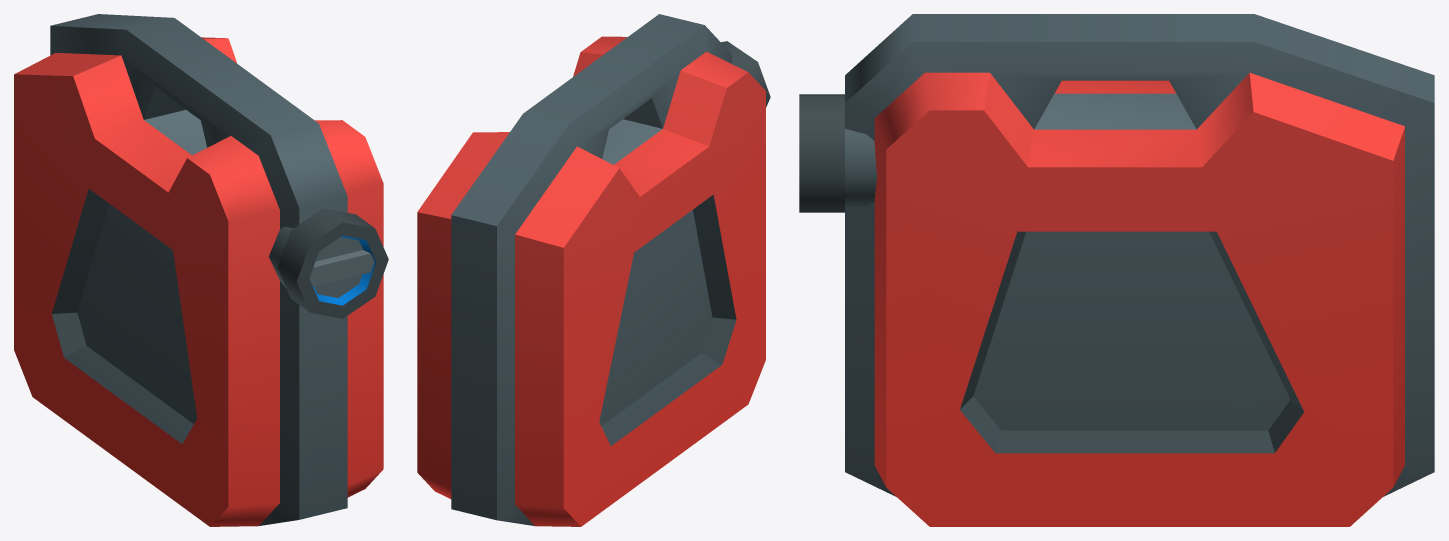
Rendered from Gas_Can_001.fbx.
The picture shows the model from 3 angles, left to right: view 1: azimuth 30°, elevation 25°; view 2: azimuth 150°, elevation 25°; view 3: azimuth 270°, elevation 25°; orthographic projection. The views are drawn at different scales.
Visible parts, largest first — view 1: Gas_Can_001; view 2: Gas_Can_001; view 3: Gas_Can_001.
Part boxes in pixels (bbox=[...]): Gas_Can_001: bbox=[14, 14, 388, 526]; Gas_Can_001: bbox=[417, 14, 770, 526]; Gas_Can_001: bbox=[799, 14, 1434, 526].
Size of the model in its own units: 20.05 by 60.01 by 48.46.
